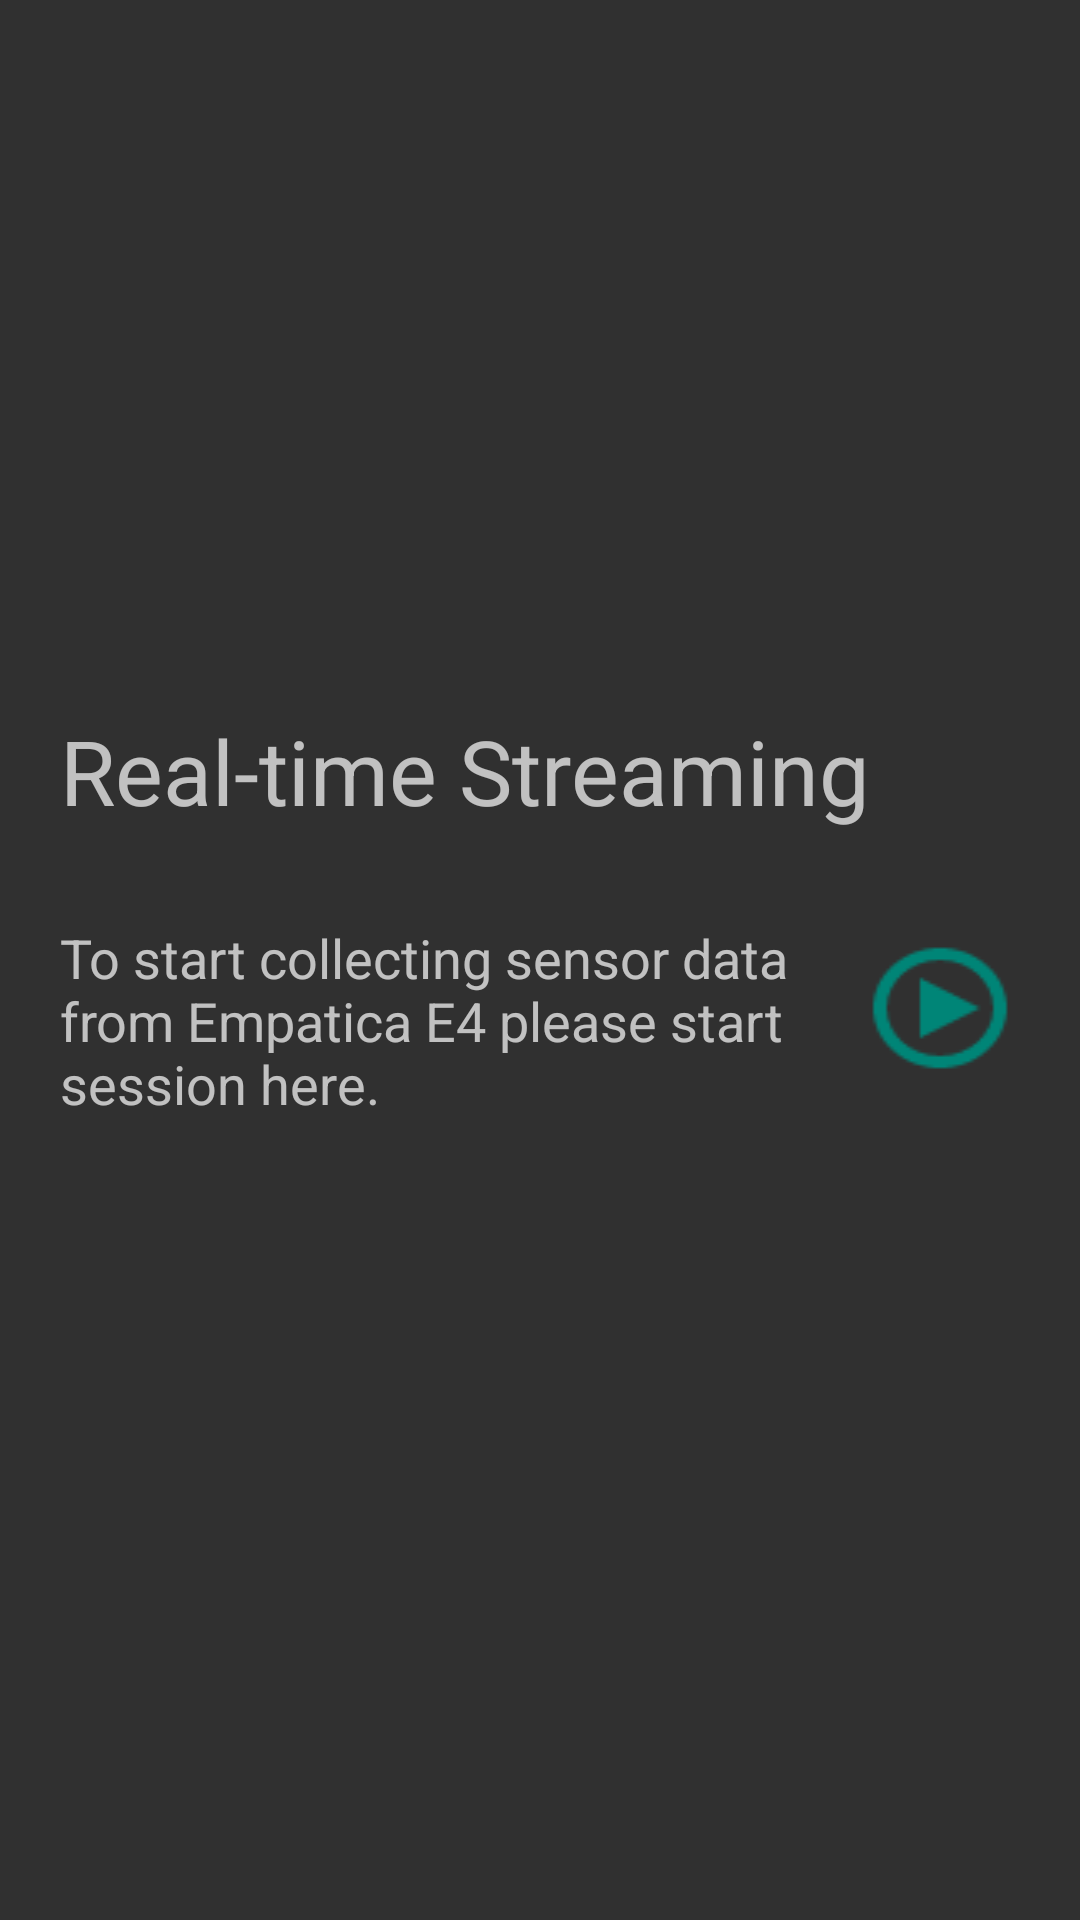

Screen size 1080 × 1920. Icon name, then its center in pixels as point (x, y):
circled play: point (940, 1008)
